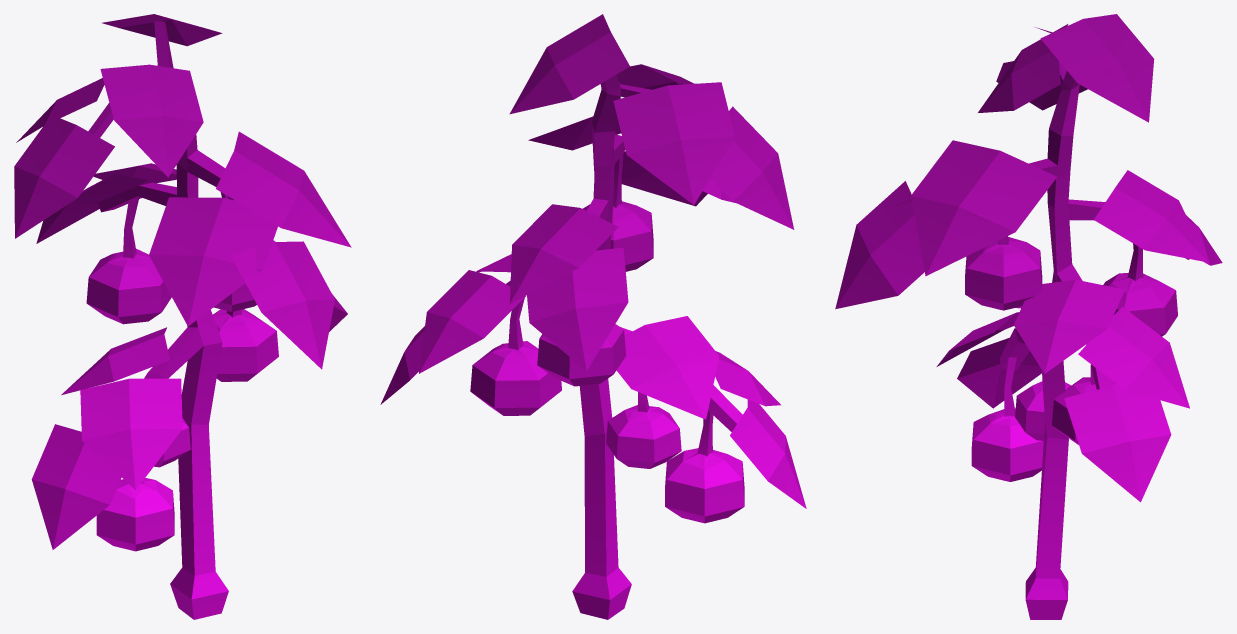
Rendered from SM_Prop_Plant_Bush_02_Tomato.fbx.
The picture shows the model from 3 angles, left to right: view 1: azimuth 30°, elevation 25°; view 2: azimuth 150°, elevation 25°; view 3: azimuth 270°, elevation 25°; orthographic projection. The views are drawn at different scales.
Parts seen in each view (by area): view 1: SM_Prop_Plant_Bush_02_Tomato; view 2: SM_Prop_Plant_Bush_02_Tomato; view 3: SM_Prop_Plant_Bush_02_Tomato.
Part boxes in pixels (x1,y1,x2,y2): SM_Prop_Plant_Bush_02_Tomato: [14, 14, 351, 619]; SM_Prop_Plant_Bush_02_Tomato: [380, 14, 806, 619]; SM_Prop_Plant_Bush_02_Tomato: [835, 14, 1222, 619].
Size of the model in its own units: 62.71 by 98.88 by 59.72.
